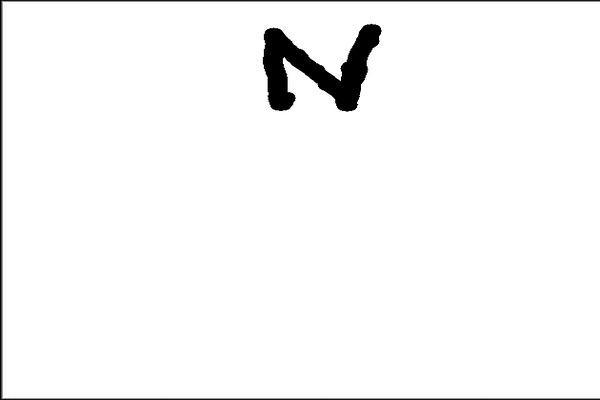N: (255, 17, 387, 122)
